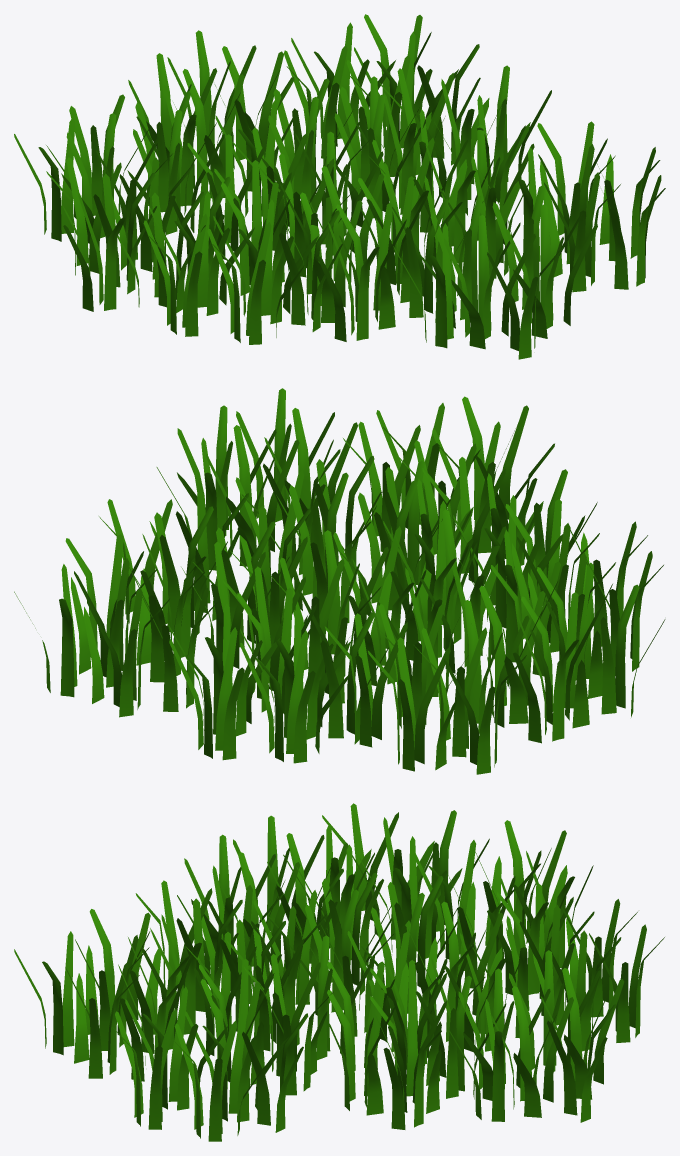
The model's file is GrassPatch02.fbx.
3 renders of one model, top to bottom at view 1: azimuth 30°, elevation 25°; view 2: azimuth 150°, elevation 25°; view 3: azimuth 270°, elevation 25°, orthographic. The views are drawn at different scales.
Parts seen in each view (by area): view 1: LargeGrassPatch; view 2: LargeGrassPatch; view 3: LargeGrassPatch.
Boxes of the visible parts, left/top/right/bottom form: LargeGrassPatch: left=14, top=14, right=665, bottom=359; LargeGrassPatch: left=14, top=388, right=665, bottom=774; LargeGrassPatch: left=14, top=803, right=664, bottom=1141.
Size of the model in its own units: 4.39 by 0.8303 by 4.75.
